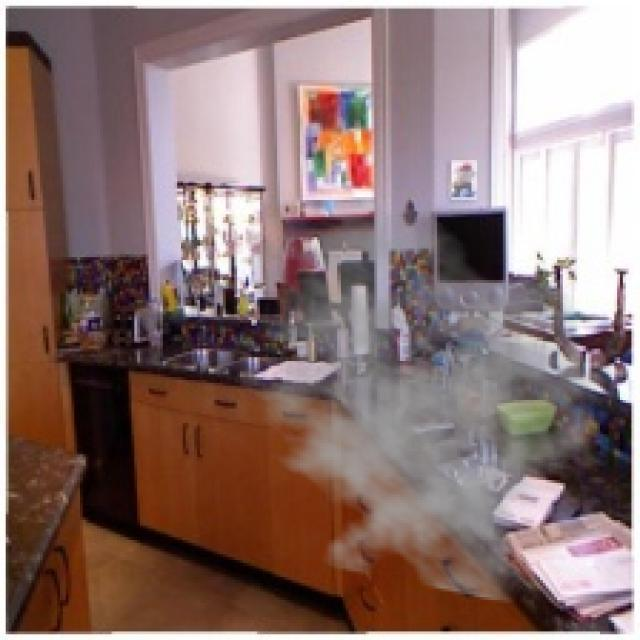Smoke: (217, 200, 623, 606)
